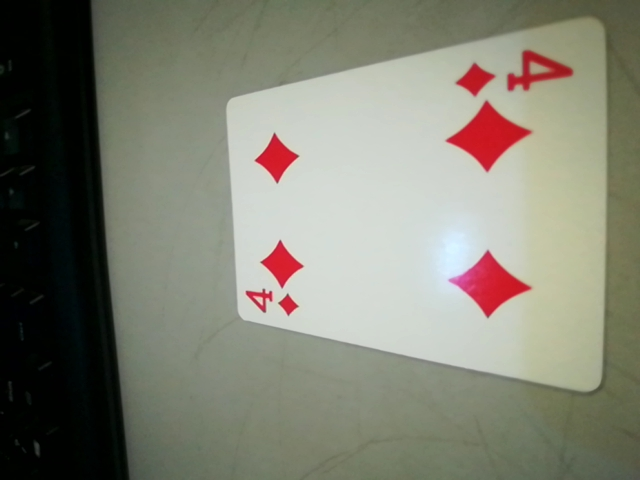fk 4: (451, 48, 574, 101)
